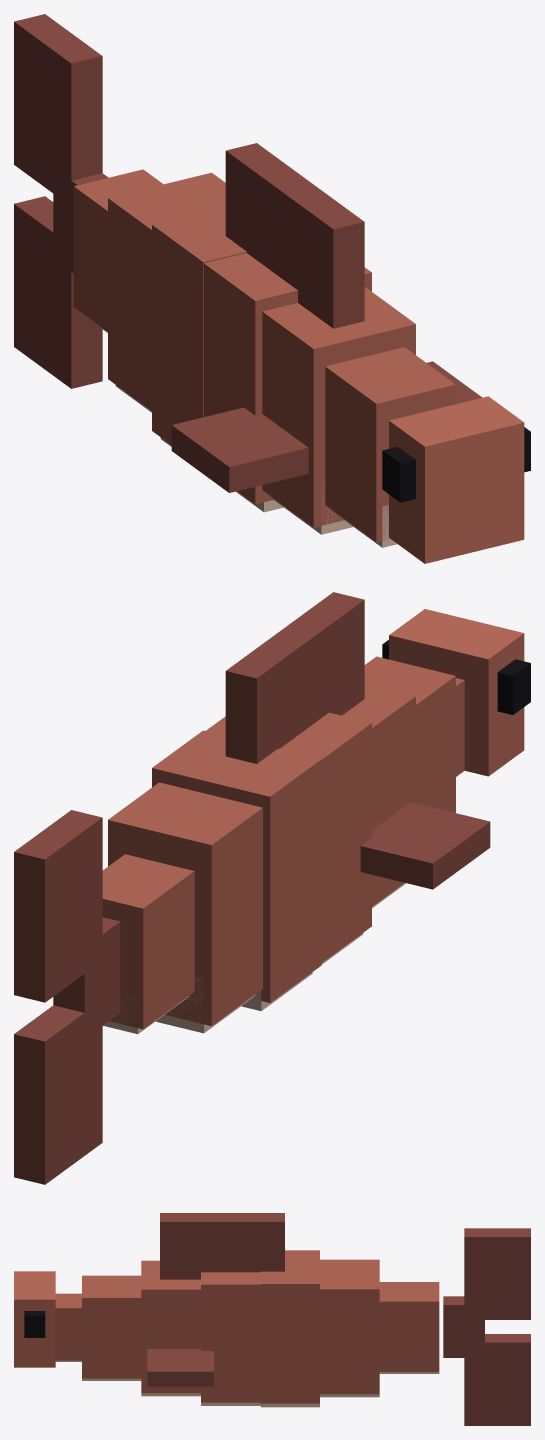
Rendered from Salmon.obj.
3 views of the same model, one above another, from view 1: azimuth 30°, elevation 25°; view 2: azimuth 150°, elevation 25°; view 3: azimuth 270°, elevation 25° (orthographic). The views are drawn at different scales.
Visible parts, largest first — view 1: Salmon; view 2: Salmon; view 3: Salmon.
Boxes of the visible parts, x1=… form: Salmon: x1=14, y1=14, x2=530, y2=563; Salmon: x1=14, y1=592, x2=530, y2=1184; Salmon: x1=14, y1=1213, x2=530, y2=1425.
Bounding box in the file's own units: 0.42 × 0.54 × 1.24.
Materials: 1 (1 with a texture image).
